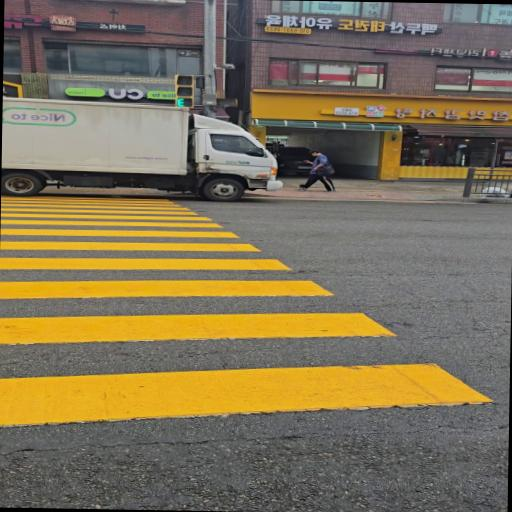yellow-crosswalk: (0, 185, 512, 450)
